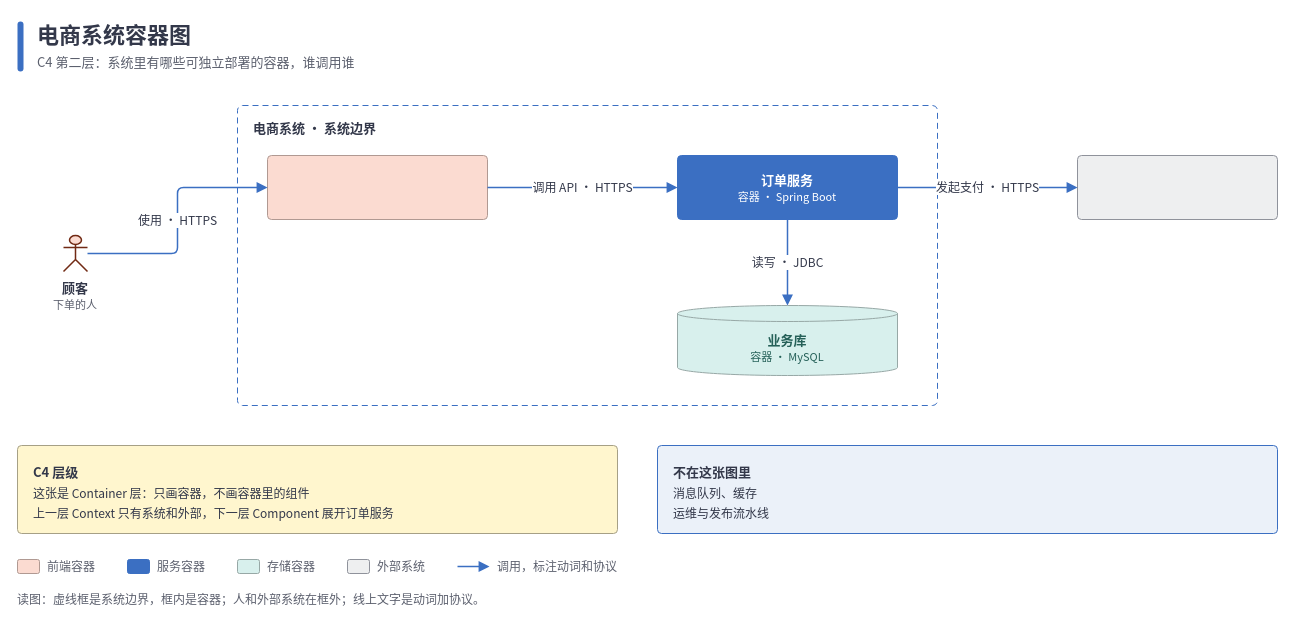
Some shapes in this 1295 by 626 pixel diagram are drawn without their labels. The shapes that lost their labels are listed below. From the top down, each one's centre as x and y in pixels, then its label:
At [377,187]: "Web 前端 容器 · React".
At [1177,187]: "支付平台 外部系统".
